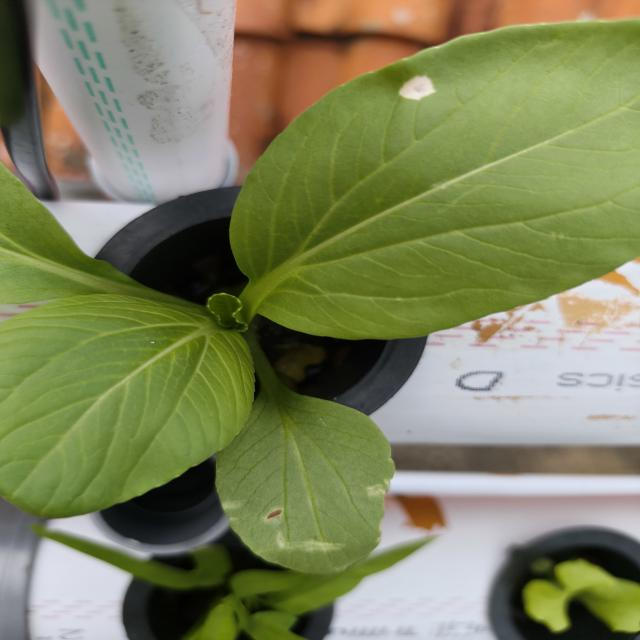daun-pakcoy: (255, 20, 640, 339), (0, 295, 254, 518), (217, 385, 394, 578), (0, 165, 163, 303)
